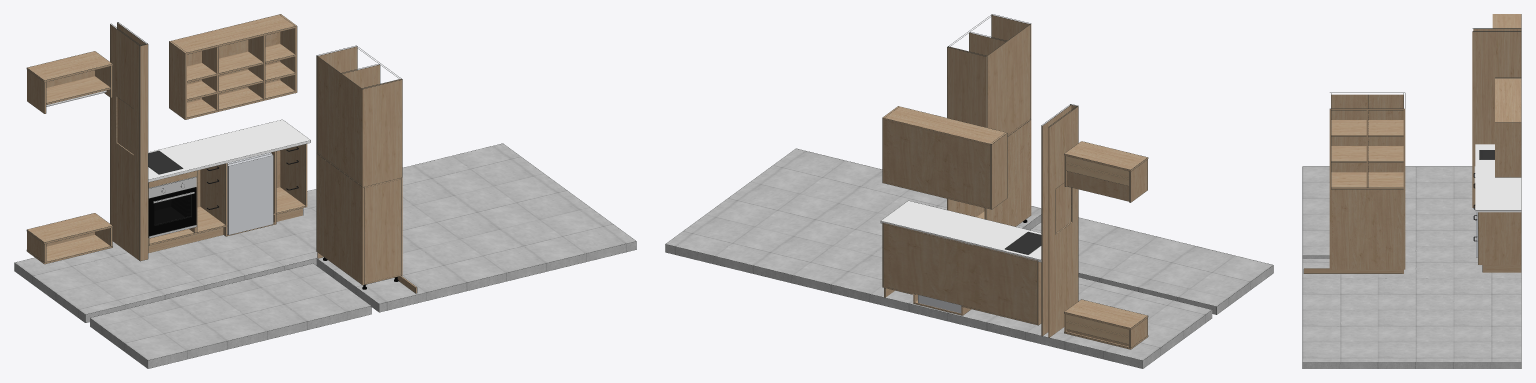
Rendered from korpus.glb.
The picture shows the model from 3 angles, left to right: view 1: azimuth 30°, elevation 25°; view 2: azimuth 150°, elevation 25°; view 3: azimuth 270°, elevation 25°; orthographic projection. The views are drawn at different scales.
Bounding box in the file's own units: 6128 × 2683 × 2903.
Materials: 19 (7 with a texture image).
